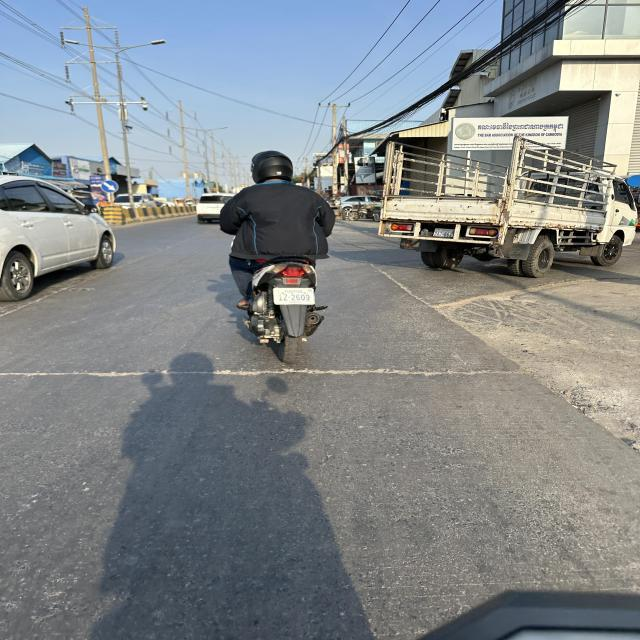Kandal: (285, 289, 304, 295)
